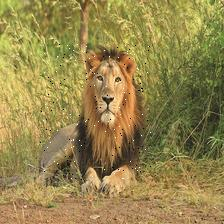Lion: (40, 45, 152, 181)
